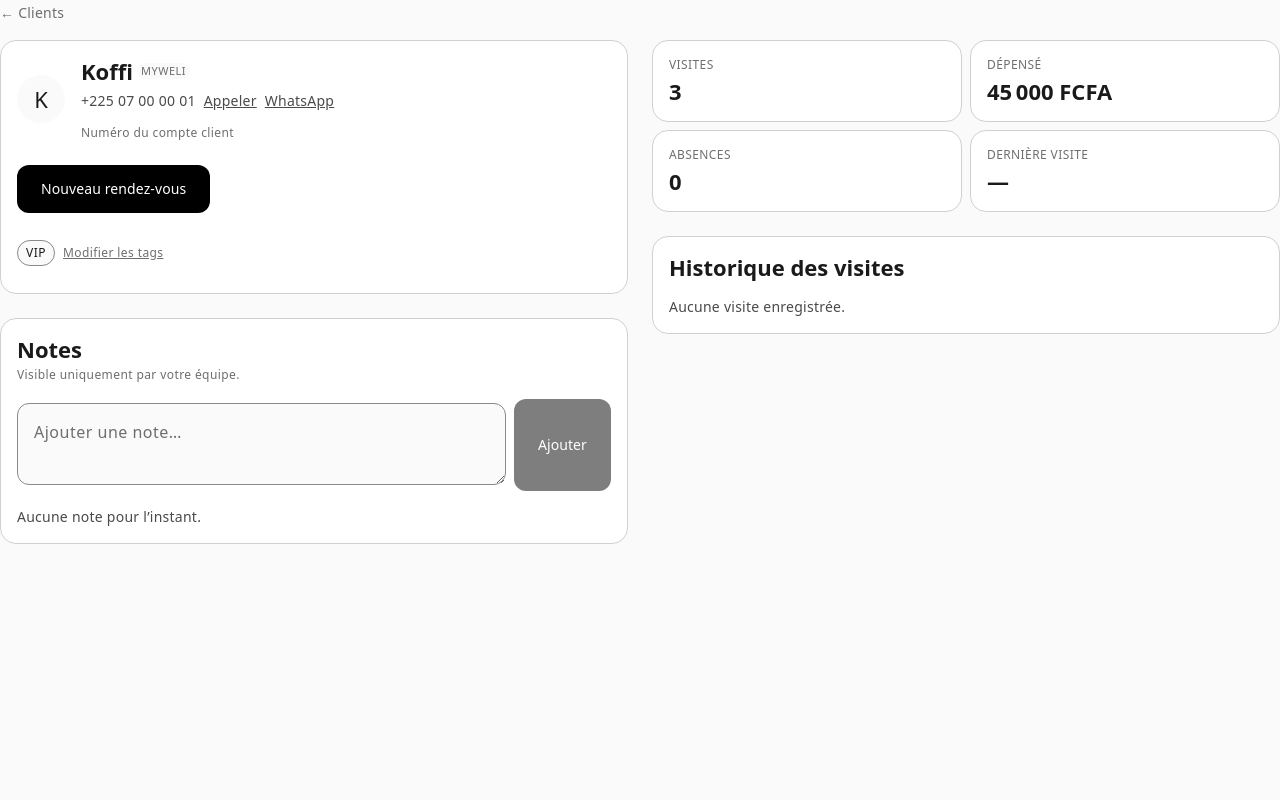
Test: ClientCardClient — the phone line › a LINKED card’s refused number is the account’s — the dialog is told, and offers no way to a card that cannot fix it
The image size is (1280, 800).
Click the button "Nouveau rendez-vous" at coordinates (114, 189), box x1=17 y1=165 x2=210 y2=213
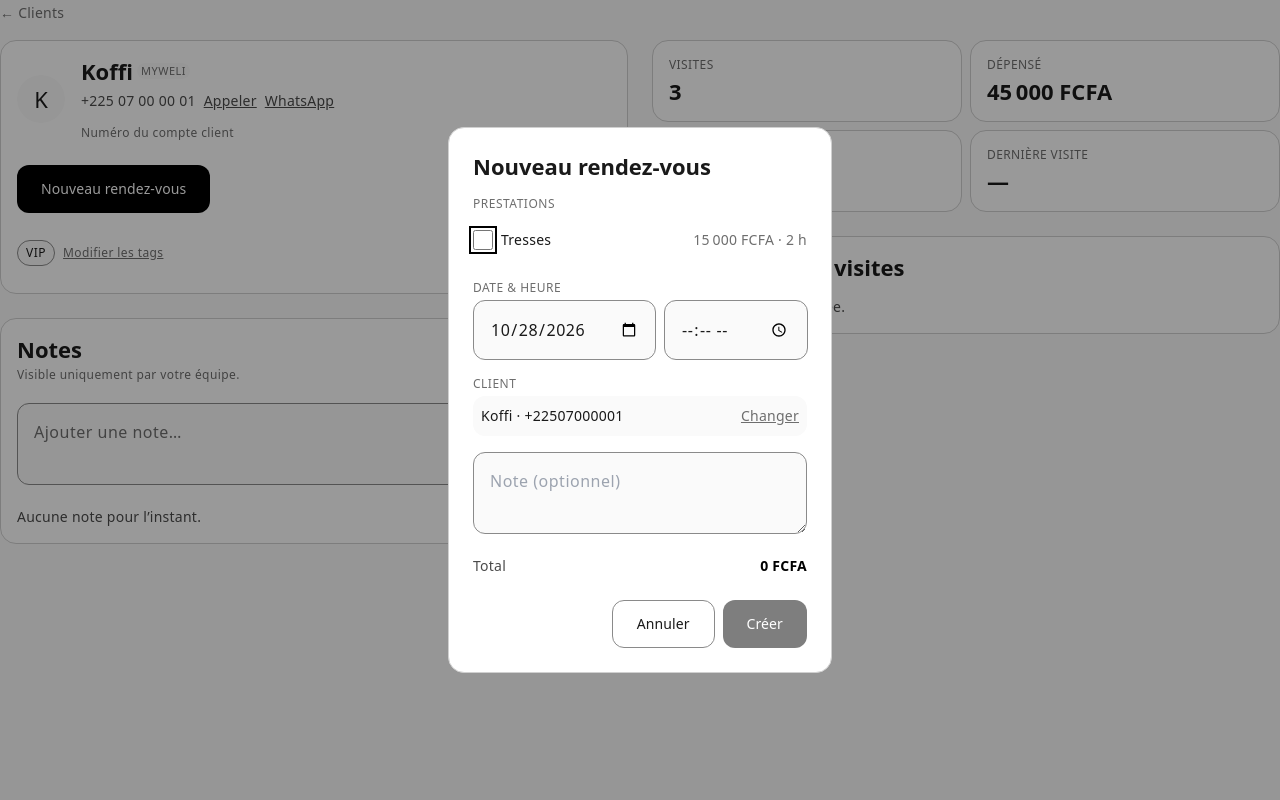
Click the checkbox labelled "Tresses 15 000 FCFA · 2 h" at coordinates (483, 240), box x1=473 y1=230 x2=493 y2=250
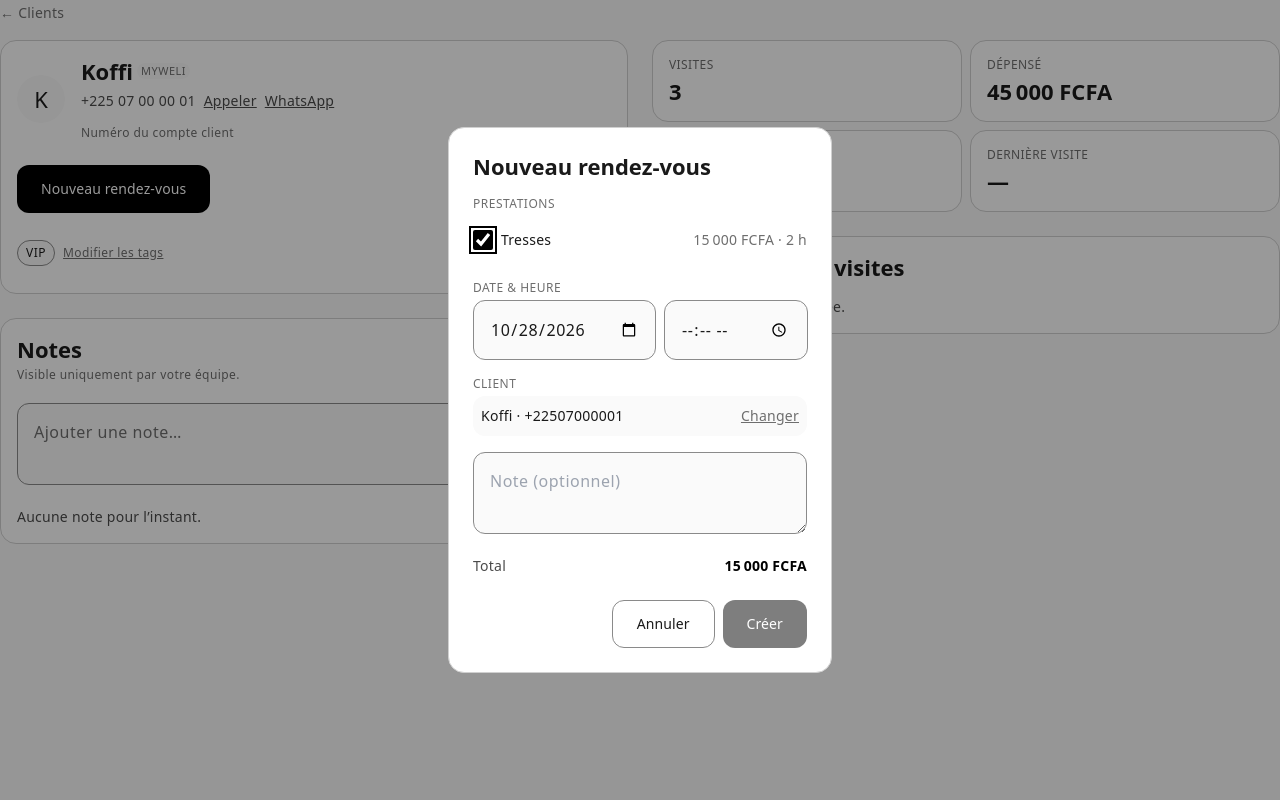
Type "2099-01-15" into the date field named "Date du rendez-vous" at coordinates (564, 330), box x1=473 y1=300 x2=656 y2=360
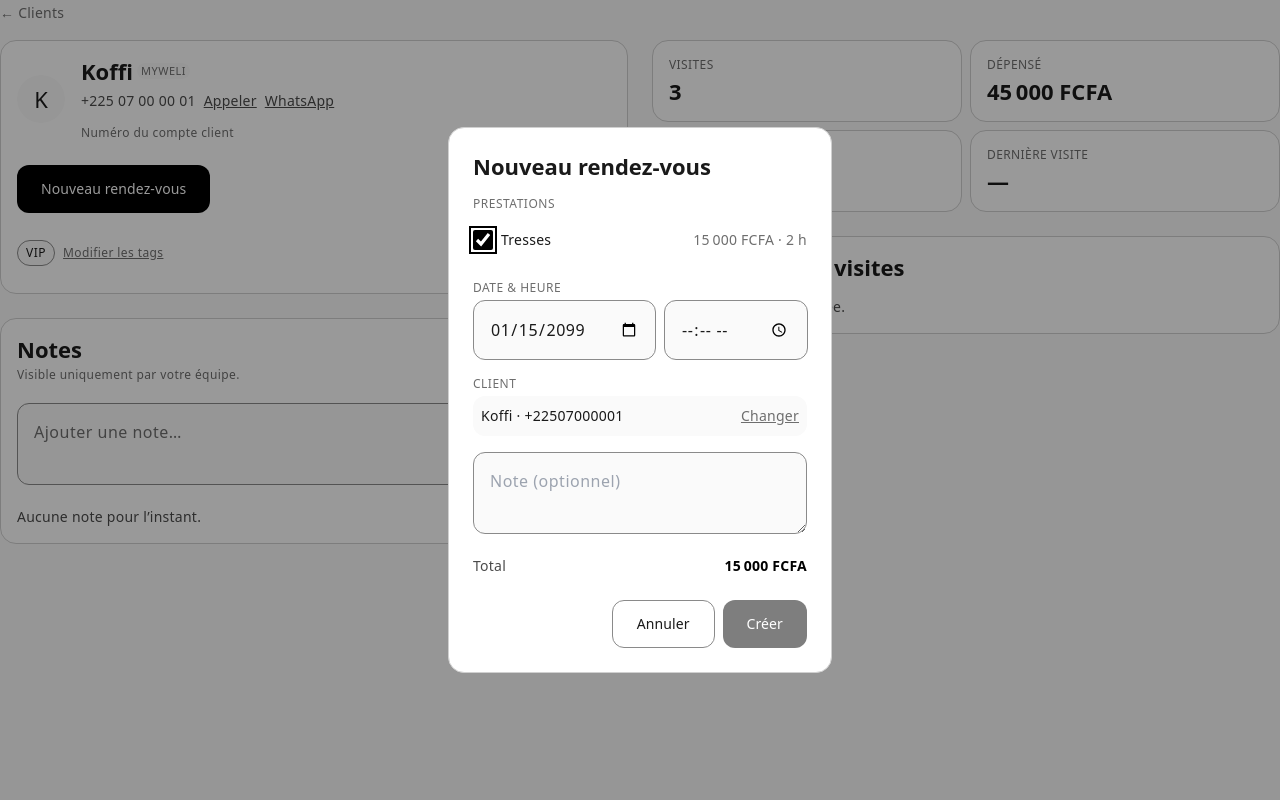
Type "14:30" into the time field named "Heure du rendez-vous" at coordinates (736, 330), box x1=664 y1=300 x2=808 y2=360
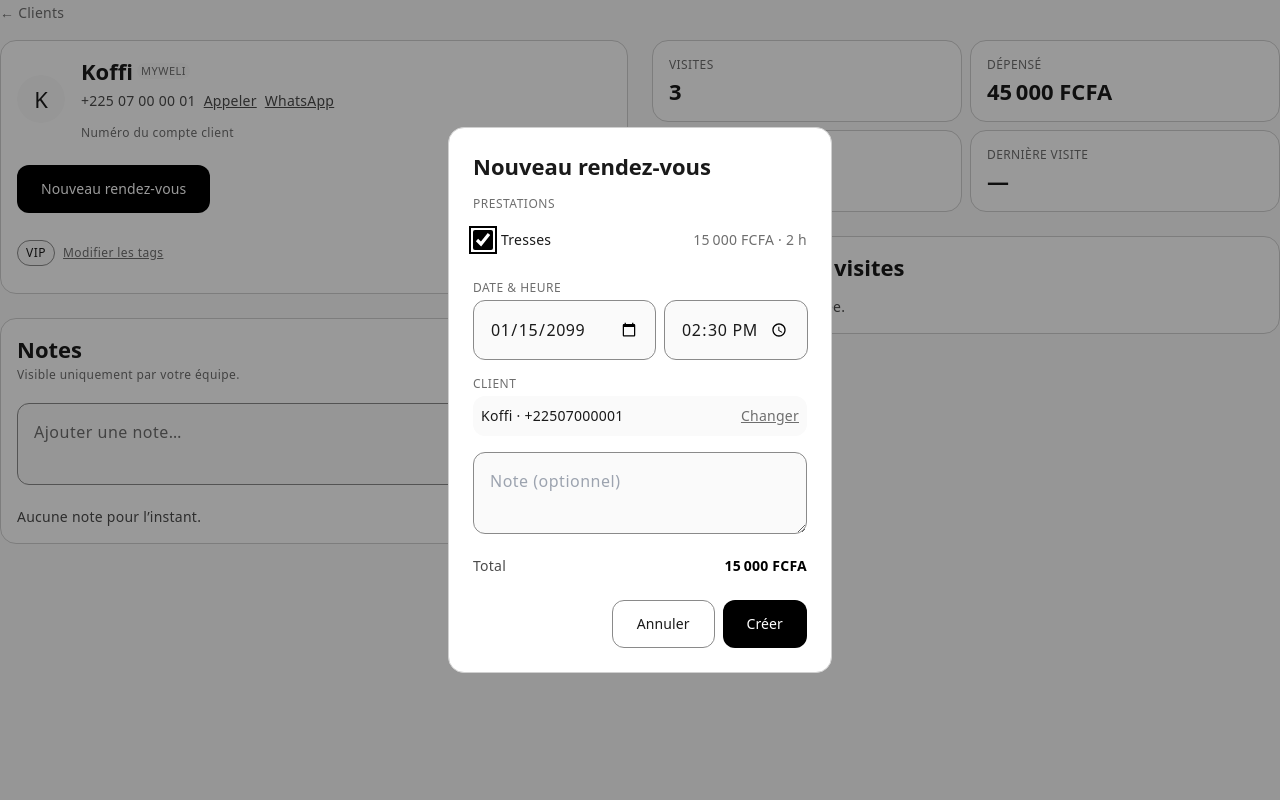
Click the button "Créer" at coordinates (765, 624), box x1=723 y1=600 x2=807 y2=648
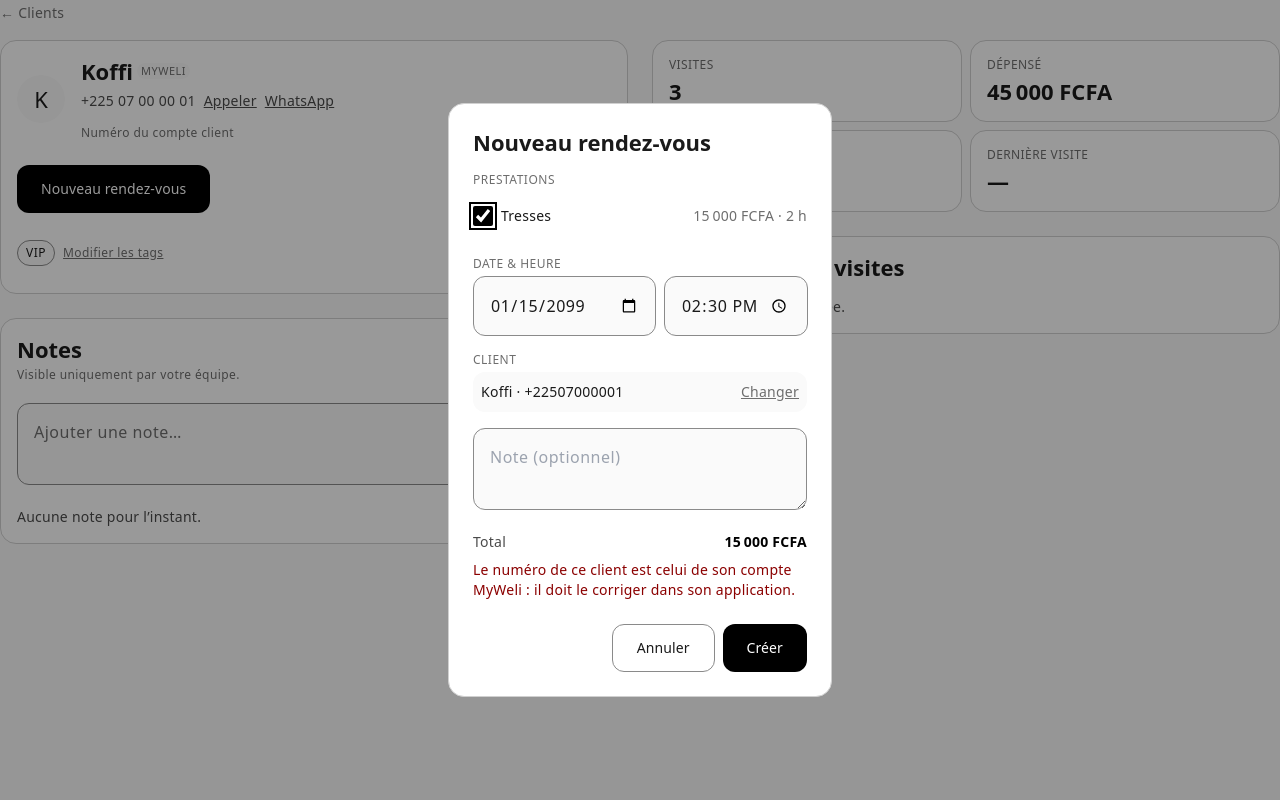
Expected: the text "Le numéro de ce client est celui de son compte MyWeli : il doit le corriger dans son application." is shown, x1=473 y1=560 x2=795 y2=599
